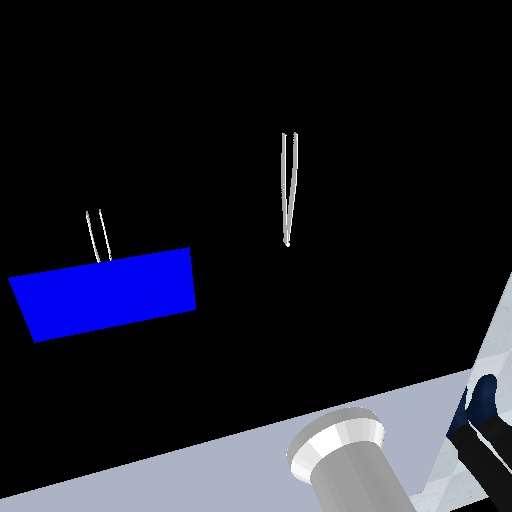pinza: (274, 127, 303, 249), (82, 206, 115, 264)
